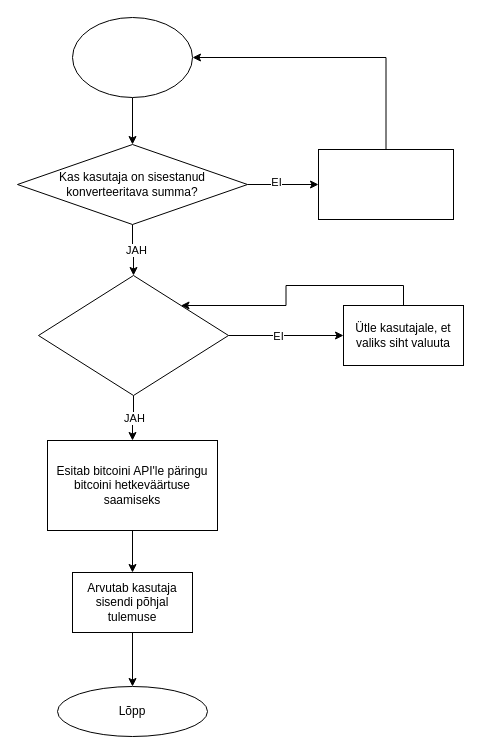
Image size: 481x754. Some labels were removed from this diagram. The centre of each missing label's shape, as x and y in pixels:
Kas kasutaja on valinud valuuta millese bitcoin konvertida: the point at 133,335
Start: the point at 132,57
Ütle kasutajale, et ta sisestaks arv väärtuse mida konventeerida valuutaks: the point at 386,184
